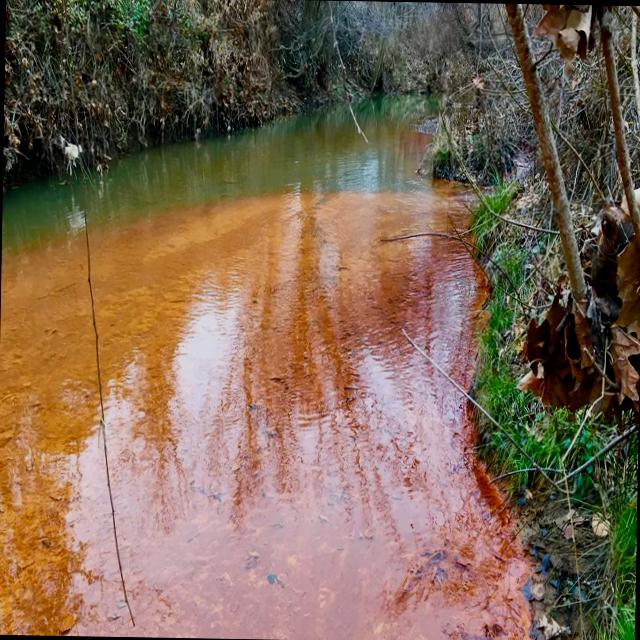yellow_boy: (0, 184, 528, 640)
